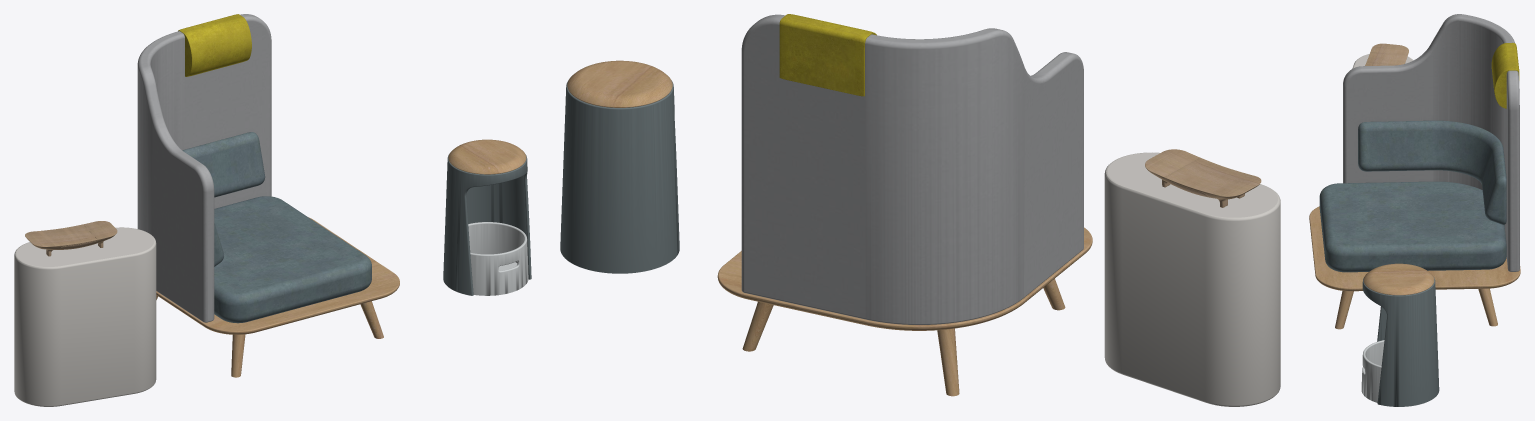
File: ikeaish.glb
3 renders of one model, left to right at view 1: azimuth 30°, elevation 25°; view 2: azimuth 150°, elevation 25°; view 3: azimuth 270°, elevation 25°, orthographic. The views are drawn at different scales.
Visible parts, largest first — view 1: minimalv4.003, IK_pedestal, minimalv4.005, stool.003, stool.002, minimalv4.004, minimalv4.001, minimalv4.002, stool.001, all parts.004, all parts.002, minimalv4.008; view 2: minimalv4.003, IK_pedestal, stool.003, minimalv4.002, stool.001, minimalv4.001, all parts.004, all parts.002, minimalv4.007, minimalv4.006; view 3: minimalv4.003, minimalv4.005, minimalv4.004, stool.003, minimalv4.001, stool.001, minimalv4.002, stool.002, all parts.004, minimalv4.009, minimalv4.006.
Boxes of the visible parts, box(x1,y1,x2,y2) form: minimalv4.003: box(137, 14, 271, 322); IK_pedestal: box(14, 227, 156, 406); minimalv4.005: box(214, 196, 371, 323); stool.003: box(443, 154, 531, 295); stool.002: box(468, 222, 528, 295); minimalv4.004: box(182, 132, 265, 266); minimalv4.001: box(156, 217, 399, 334); minimalv4.002: box(178, 14, 251, 76); stool.001: box(448, 139, 526, 174); all parts.004: box(25, 224, 97, 256); all parts.002: box(58, 221, 117, 249); minimalv4.008: box(231, 334, 245, 377); minimalv4.003: box(741, 14, 1083, 324); IK_pedestal: box(1104, 152, 1280, 406); stool.003: box(560, 80, 679, 273); minimalv4.002: box(779, 14, 876, 96); stool.001: box(567, 60, 672, 107); minimalv4.001: box(717, 227, 1092, 330); all parts.004: box(1164, 157, 1261, 207); all parts.002: box(1145, 149, 1209, 197); minimalv4.007: box(937, 328, 959, 396); minimalv4.006: box(742, 301, 773, 351); minimalv4.003: box(1343, 14, 1519, 271); minimalv4.005: box(1319, 181, 1506, 272); minimalv4.004: box(1358, 120, 1506, 224); stool.003: box(1362, 277, 1439, 406); minimalv4.001: box(1309, 206, 1520, 291); stool.001: box(1363, 263, 1434, 295); minimalv4.002: box(1491, 42, 1519, 108); stool.002: box(1361, 340, 1384, 402); all parts.004: box(1365, 43, 1408, 65); minimalv4.009: box(1335, 291, 1353, 329); minimalv4.006: box(1478, 288, 1497, 326).
Size of the model in its own units: 1.81 by 0.8845 by 0.7097.
Materials: 17 (14 with a texture image).
